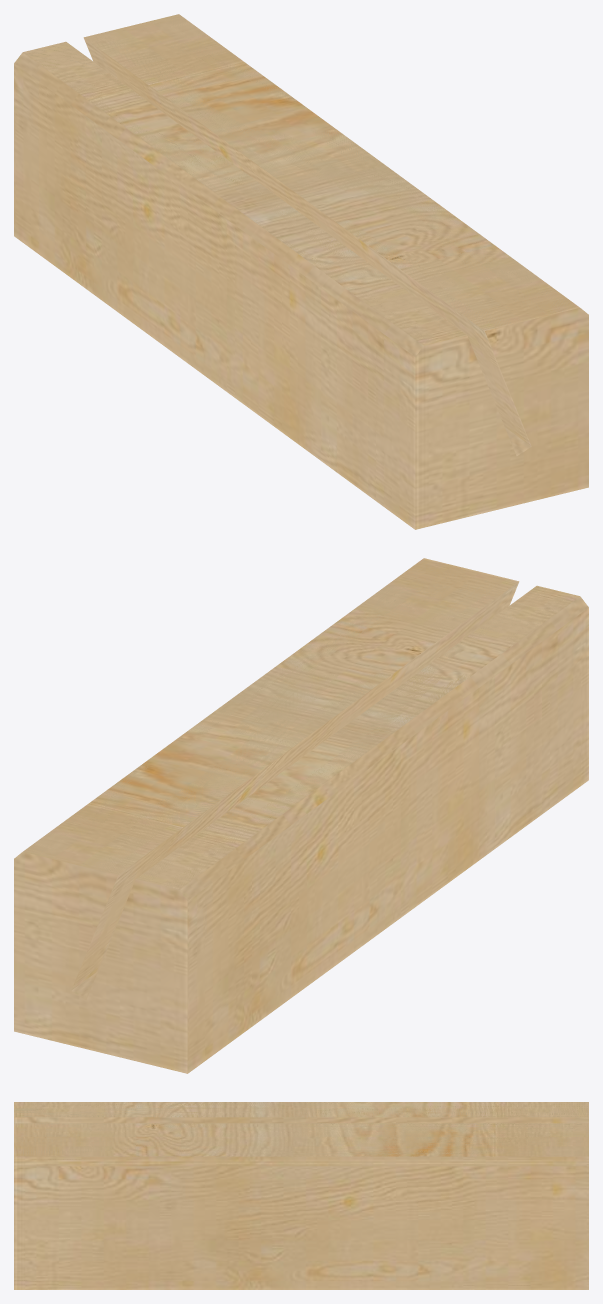
Rendered from bases-boda.glb.
3 renders of one model, top to bottom at view 1: azimuth 30°, elevation 25°; view 2: azimuth 150°, elevation 25°; view 3: azimuth 270°, elevation 25°, orthographic. The views are drawn at different scales.
Size of the model in its own units: 0.02 by 0.02 by 0.08.
Materials: 2 (2 with a texture image).
